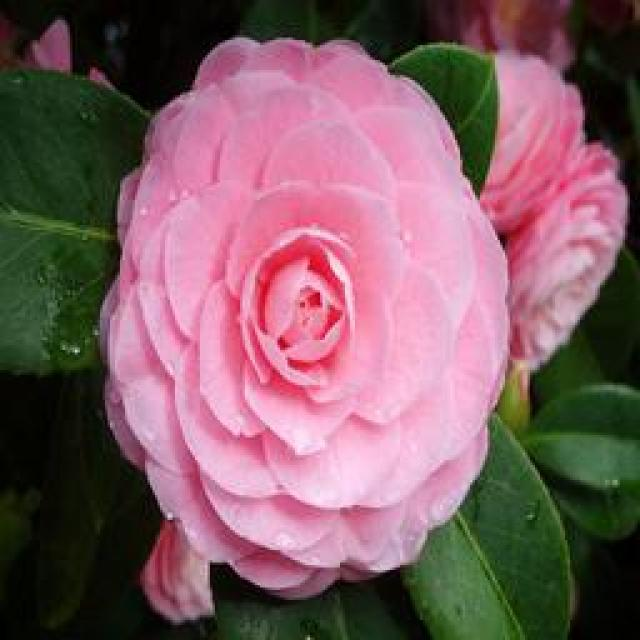rose: (106, 54, 560, 582)
